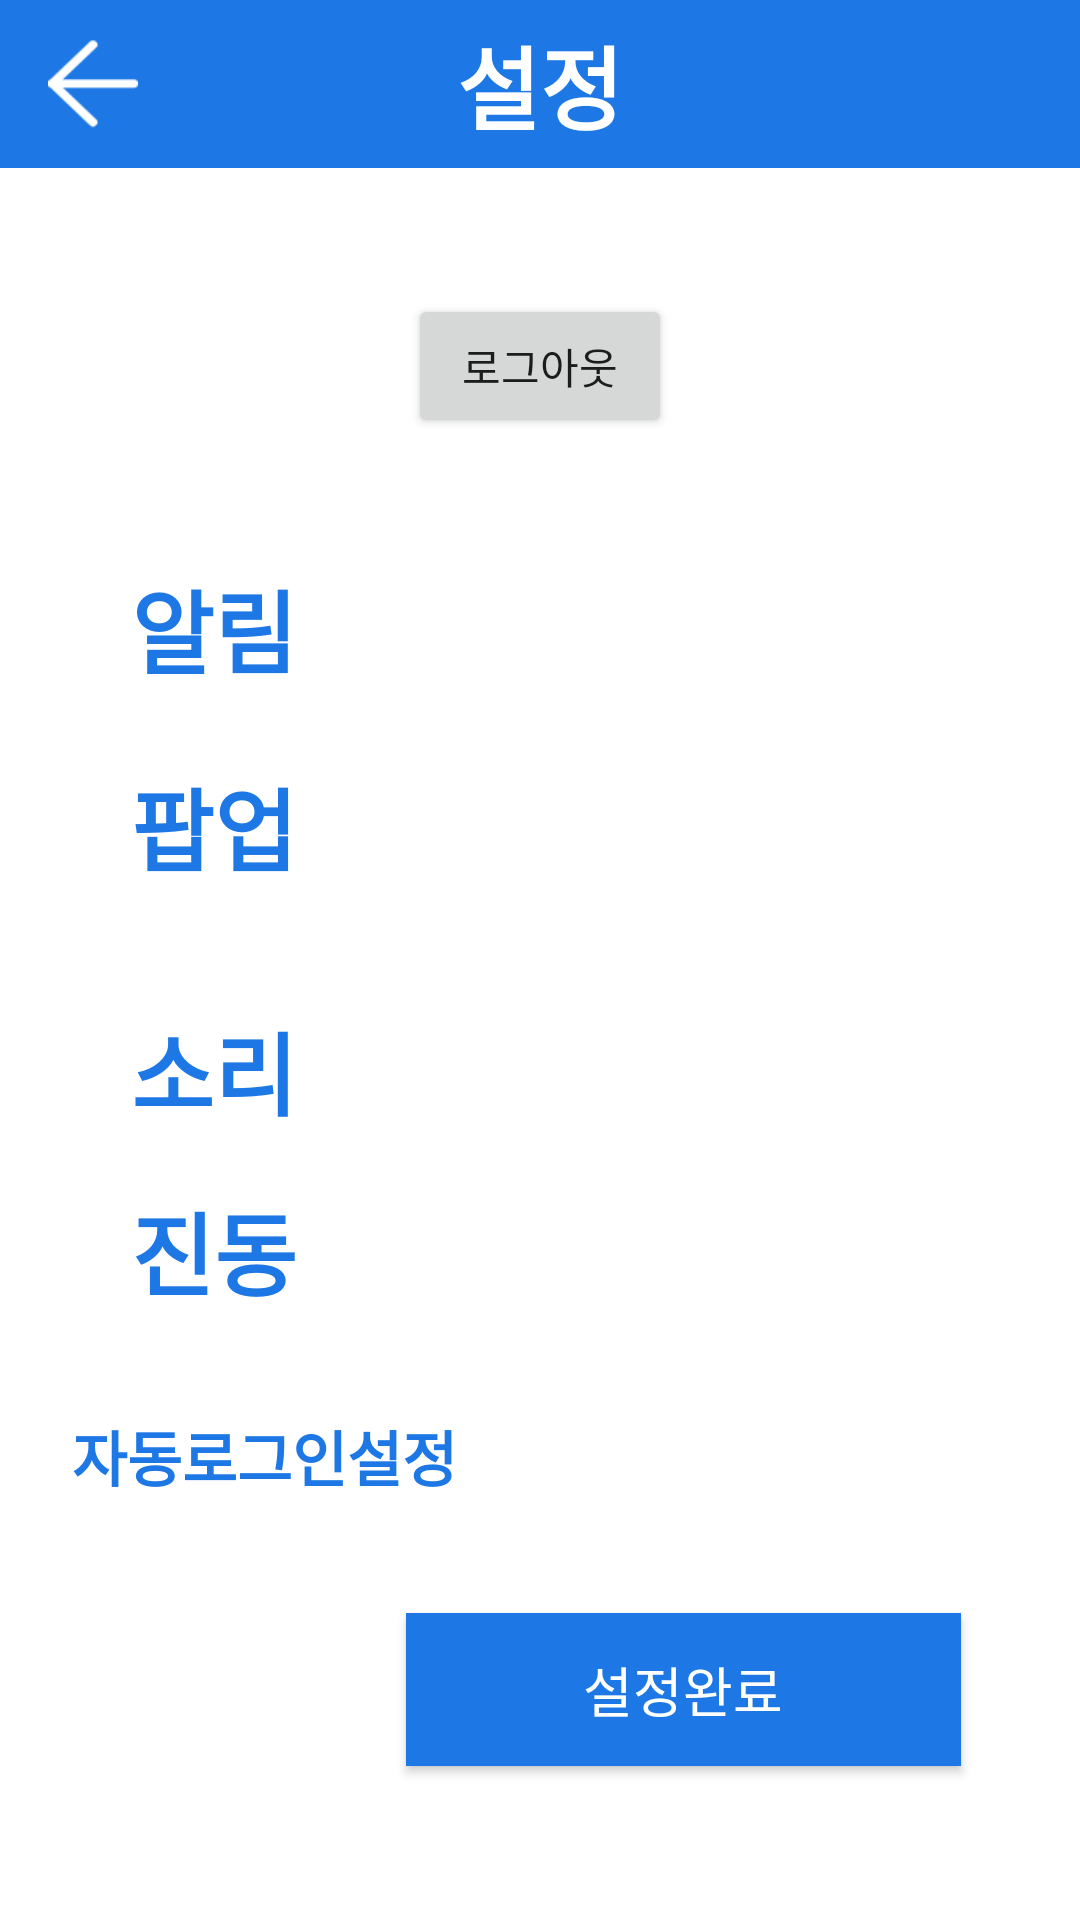

Locate icon controls on the screen. Image size 1080 × 1920, boxes as (x1, y1, x2, y2).
arrow: (48, 40, 138, 128)
